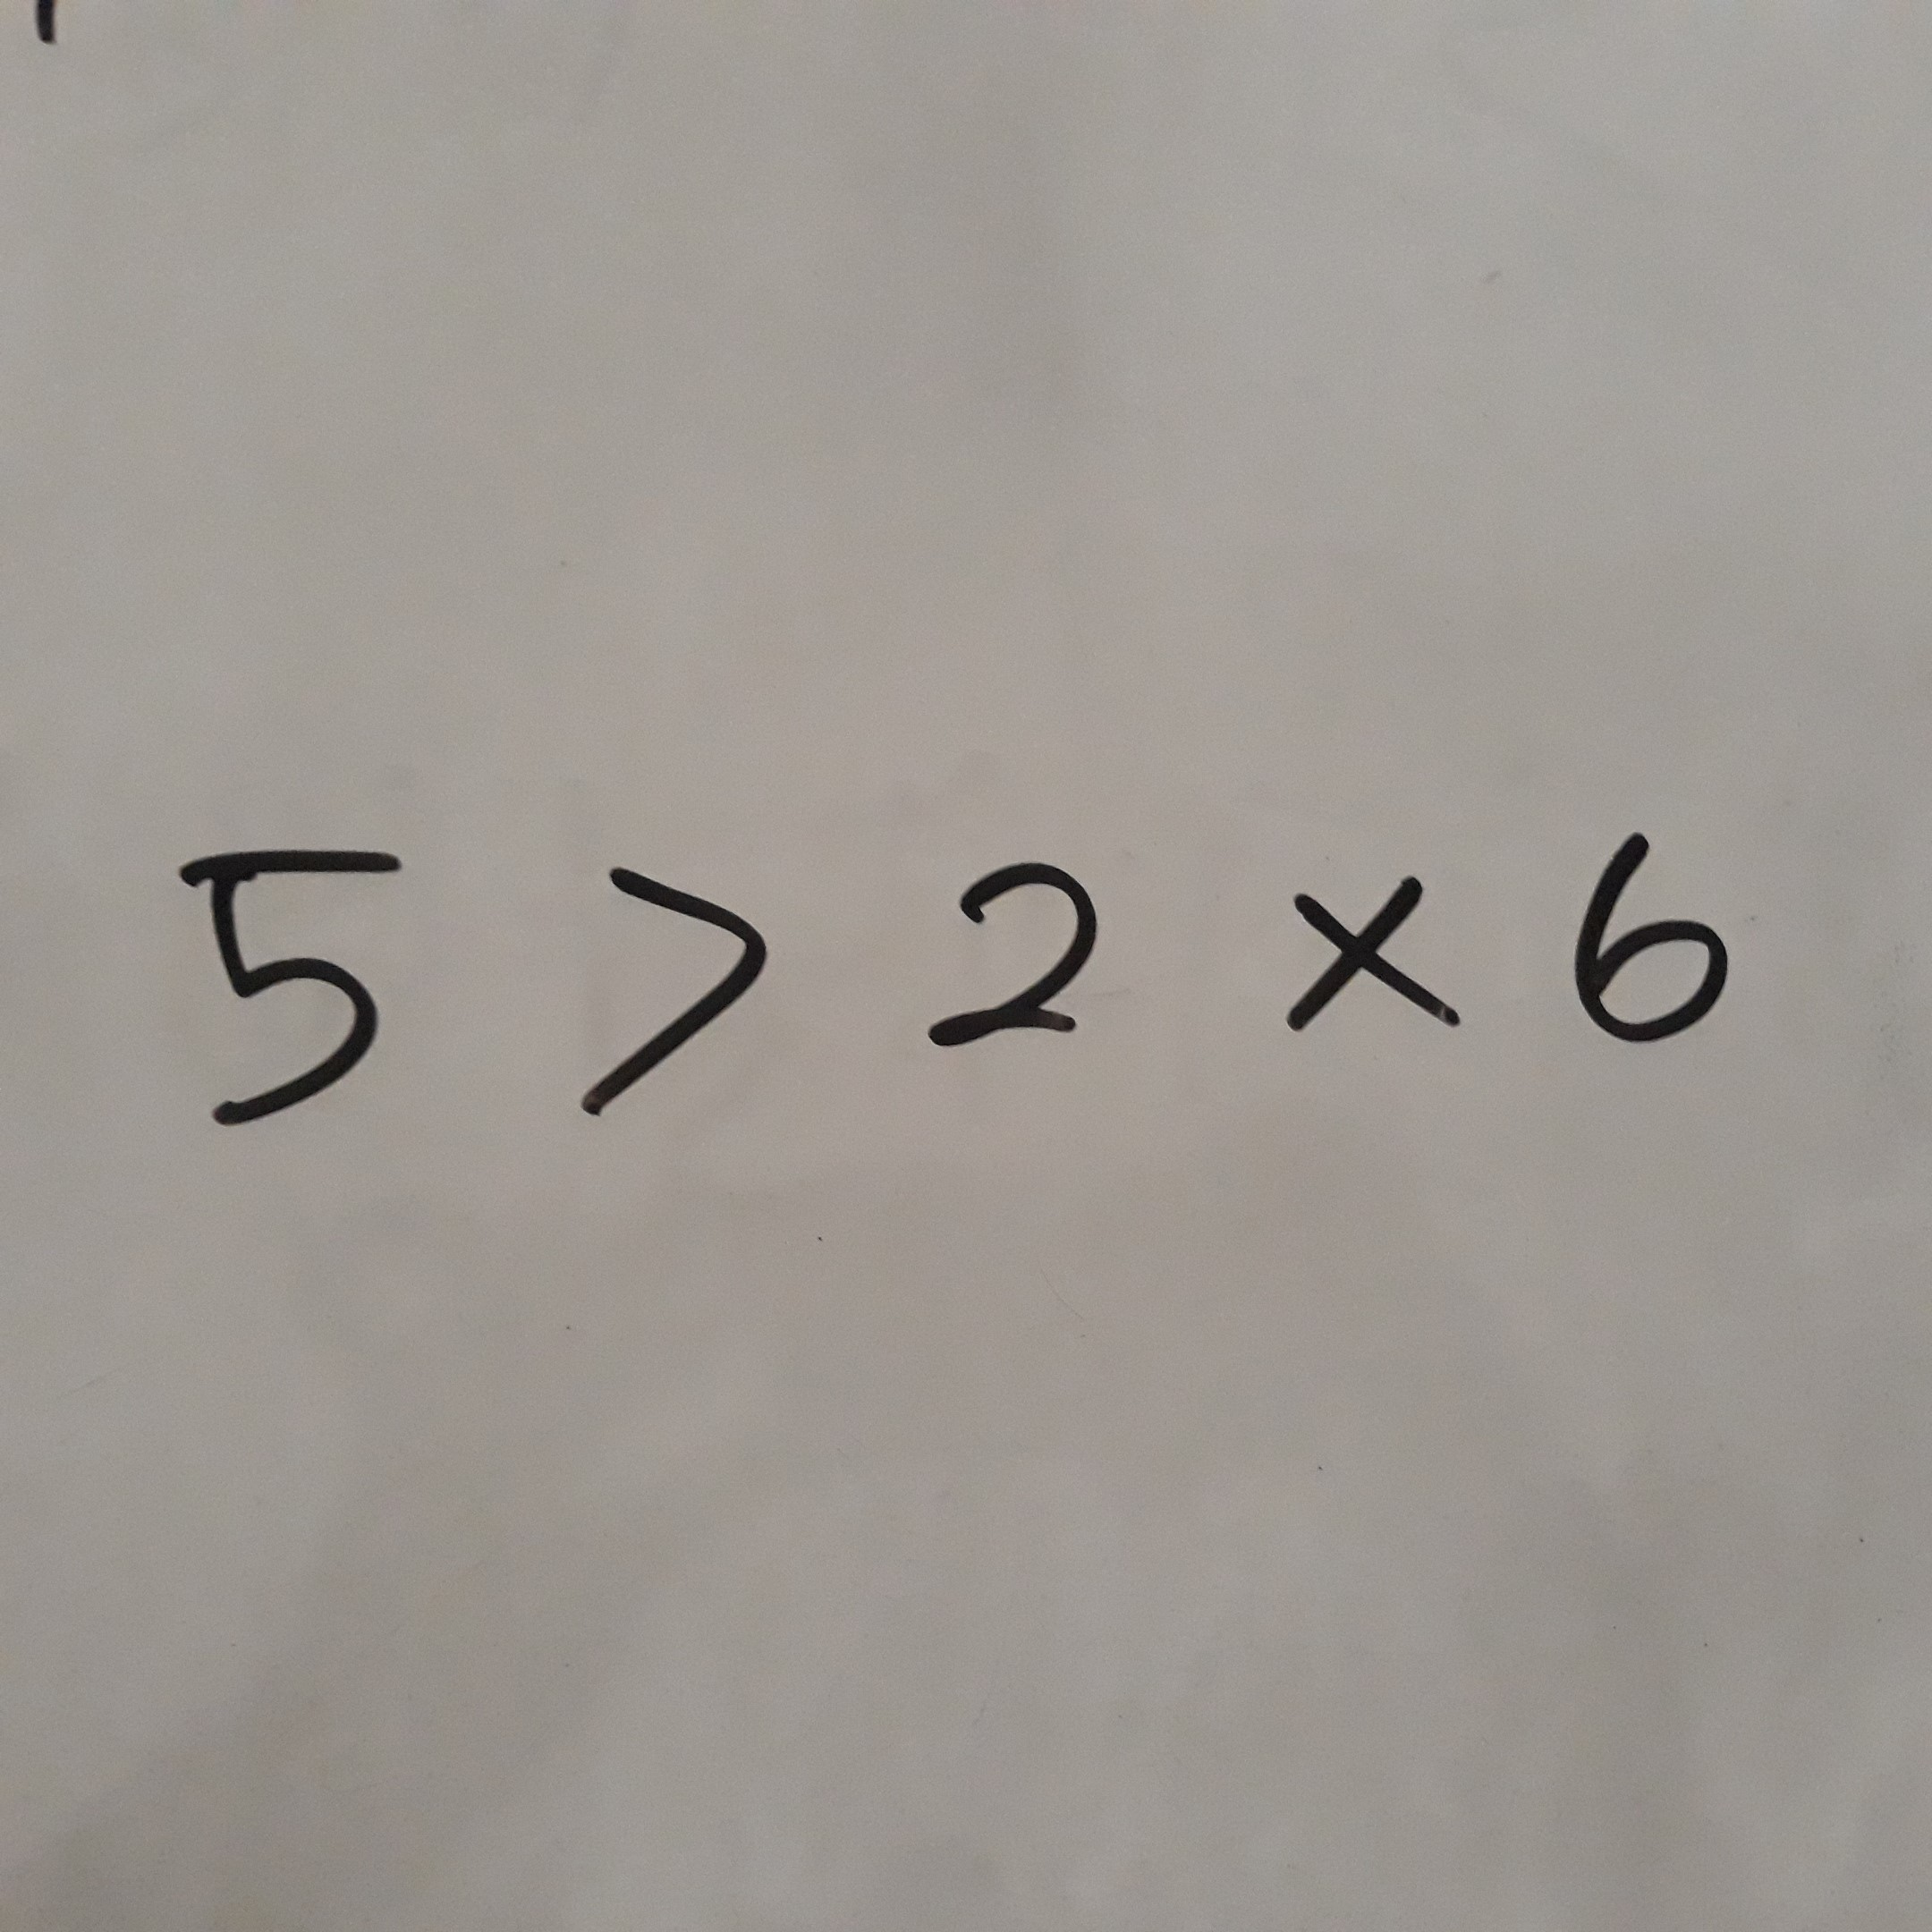morethan: (523, 827, 814, 1140)
multi: (1237, 837, 1489, 1072)
num2: (885, 839, 1137, 1074)
num5: (139, 823, 429, 1136)
num6: (1528, 822, 1780, 1057)
